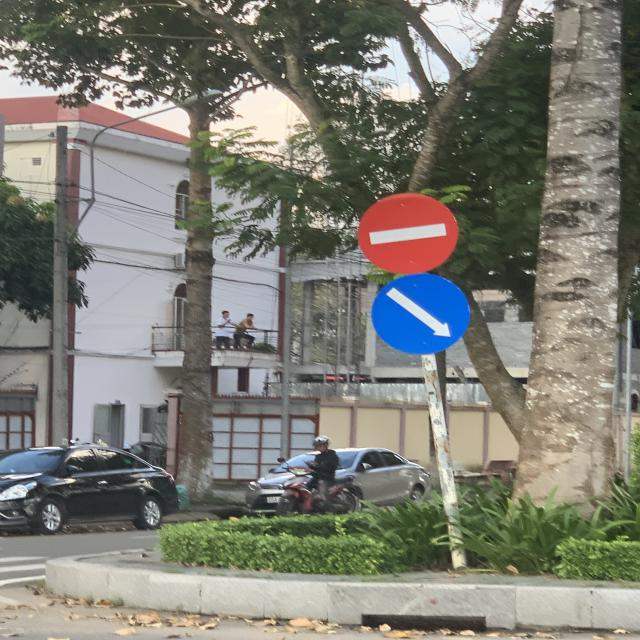Cam_Di_Nguoc_Chieu: (358, 194, 458, 274)
Chi_Huong_Di_Phai: (371, 274, 472, 355)
